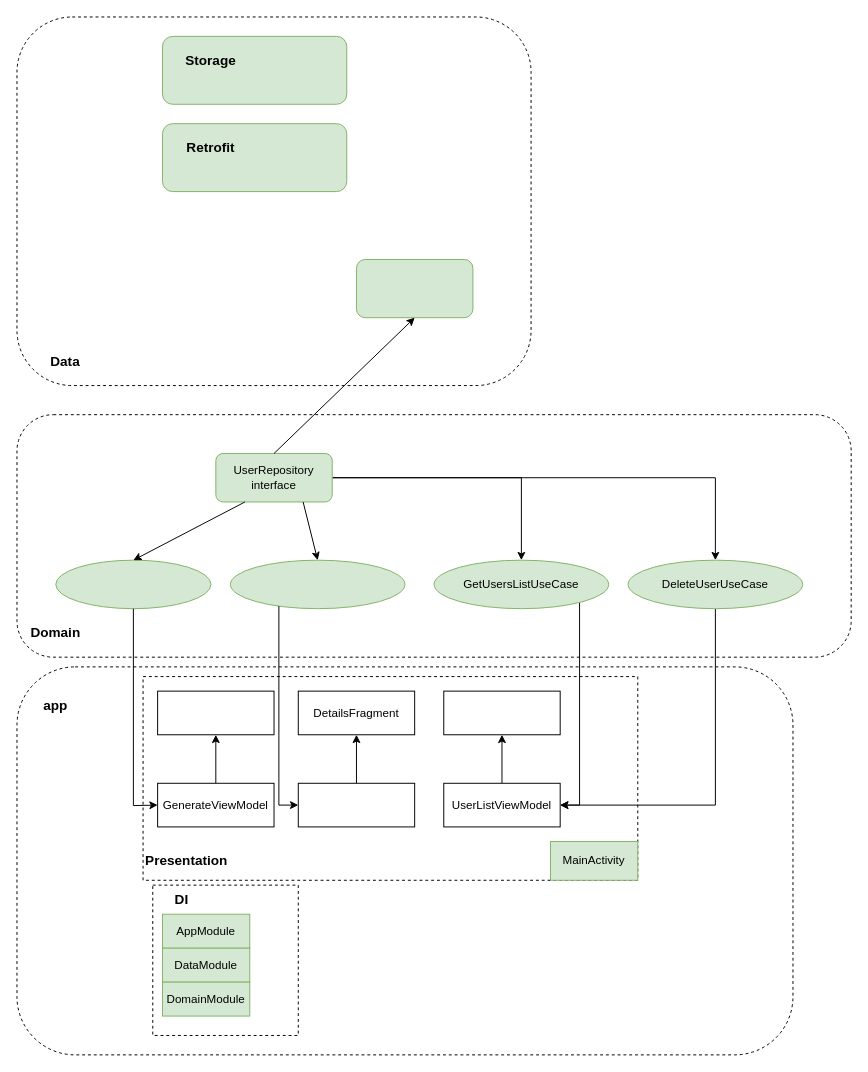
Image size: 868x1072. Some labels were removed from this diagram. The shapes that lost their labels are listed below. From the top down, each one's box as (x1, y1, x2, y2) in pixels, then its label:
(356, 259, 473, 318): UserRepositoryImpl : UserRepository
(55, 559, 211, 609): GenerateUserUseCase
(229, 559, 405, 609): GetUserDetailUseCase
(157, 690, 274, 735): GenerateFragment
(443, 690, 560, 735): UserListFragment
(297, 782, 415, 827): DetailsViewModel
